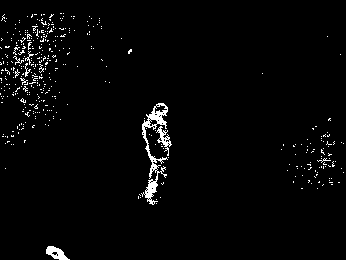person: (136, 101, 174, 206)
